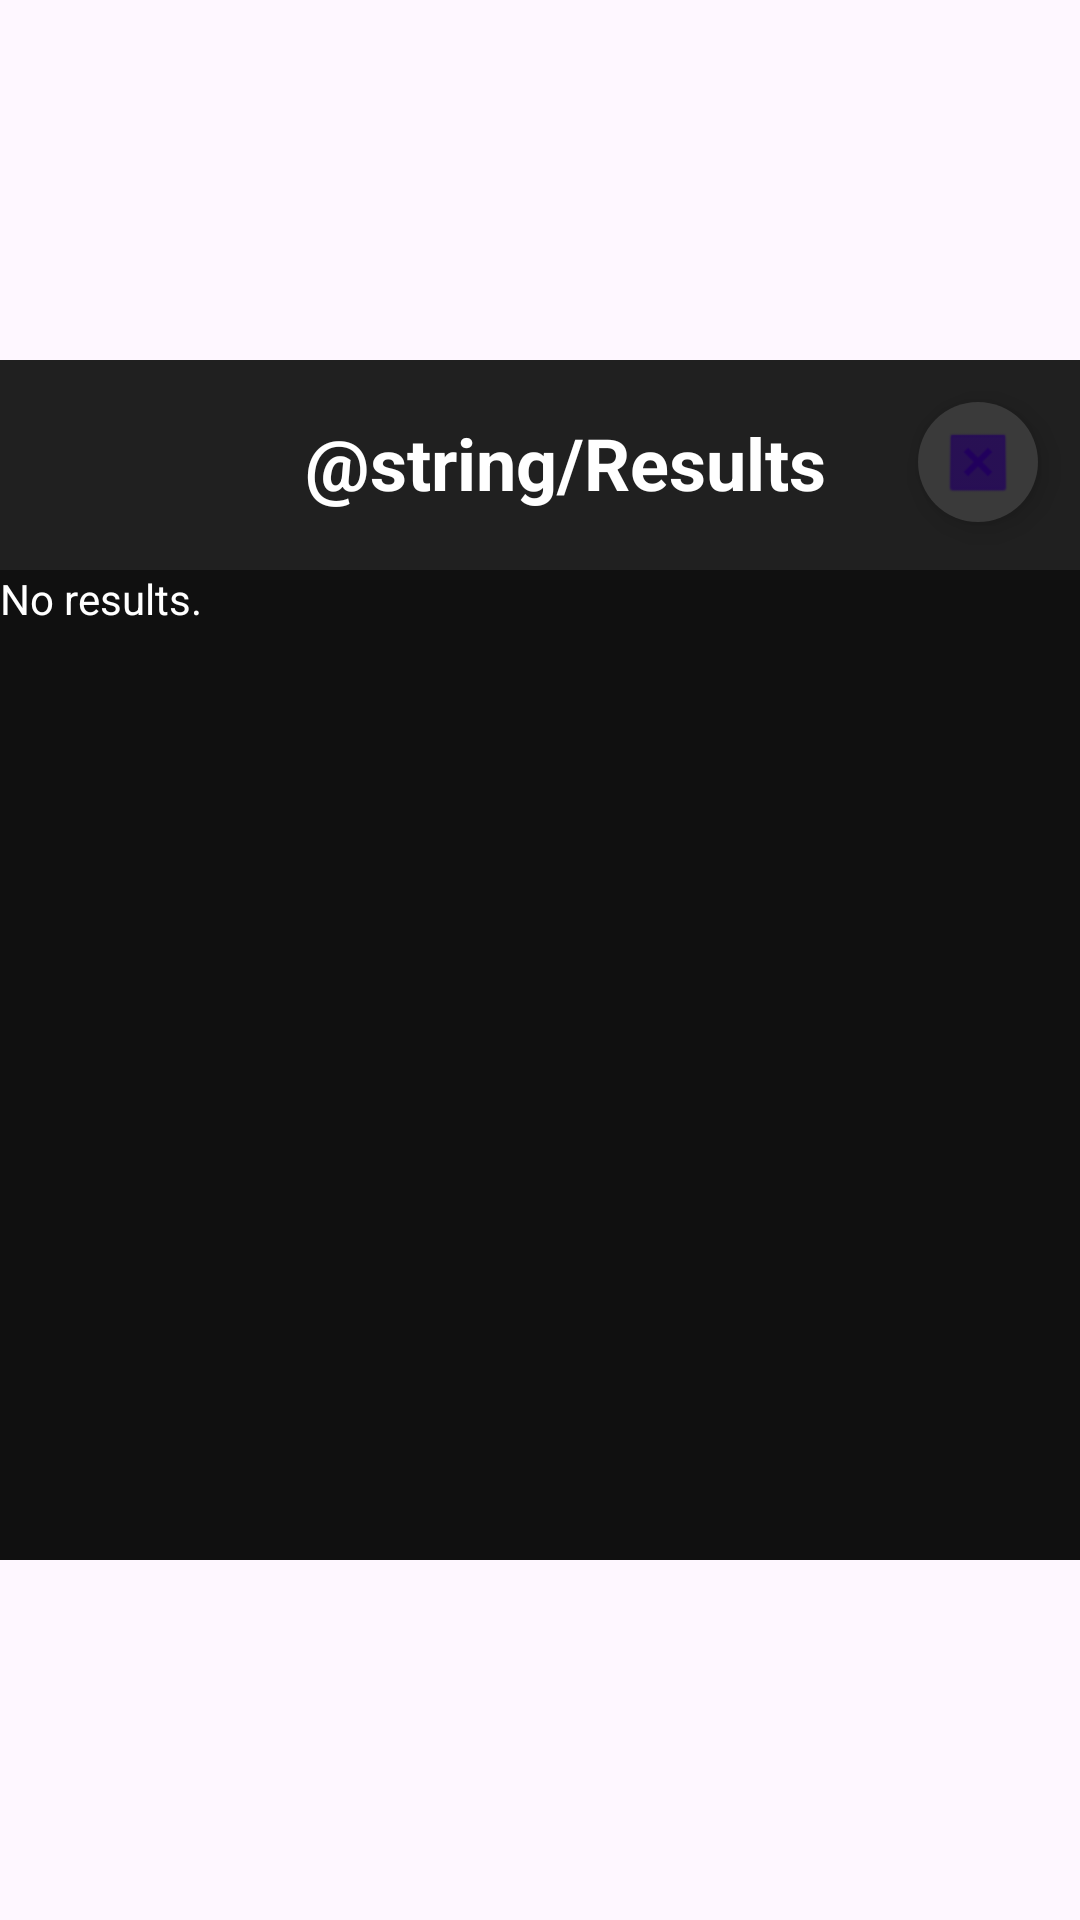

Point at icon controls on the screen. Image size 1080 × 1920, points as (x,y).
Closes the results dialog: (978,462)
